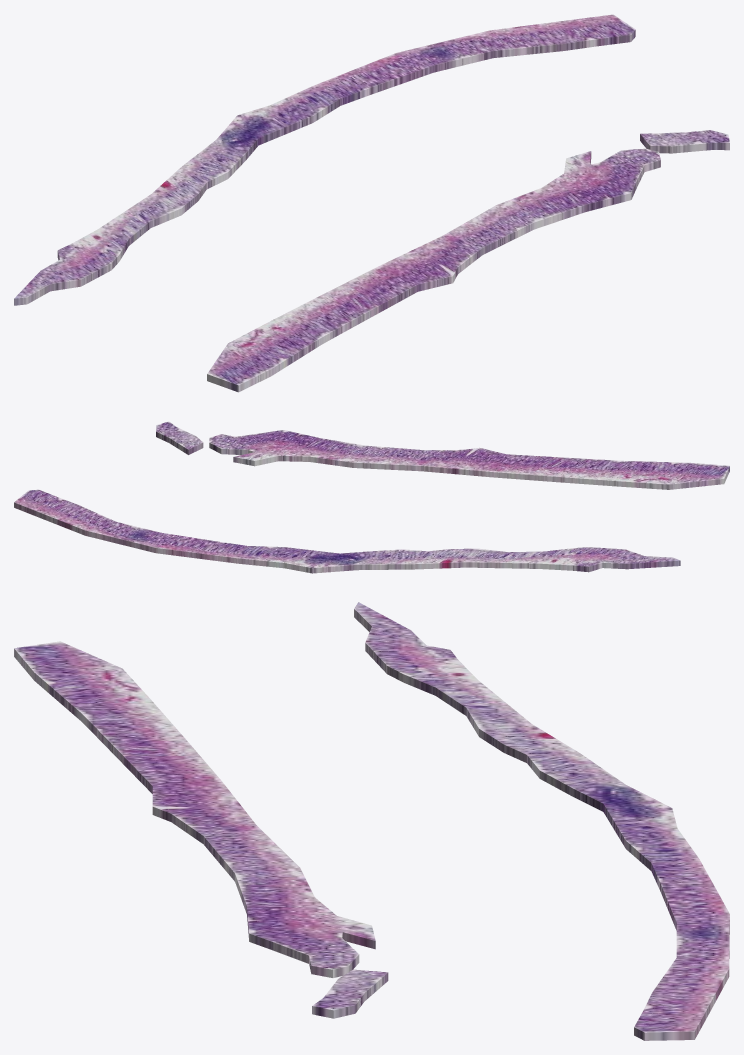
3 renders of one model, top to bottom at view 1: azimuth 30°, elevation 25°; view 2: azimuth 150°, elevation 25°; view 3: azimuth 270°, elevation 25°, orthographic. The views are drawn at different scales.
Parts seen in each view (by area): view 1: 平面; view 2: 平面; view 3: 平面.
Part boxes in pixels (box(x1,y1,x2,y2)): 平面: box(14, 14, 729, 392); 平面: box(14, 421, 729, 573); 平面: box(14, 602, 729, 1040).
Bounding box in the file's own units: 15.42 × 0.14 × 10.84.
1 material, 1 textured.
